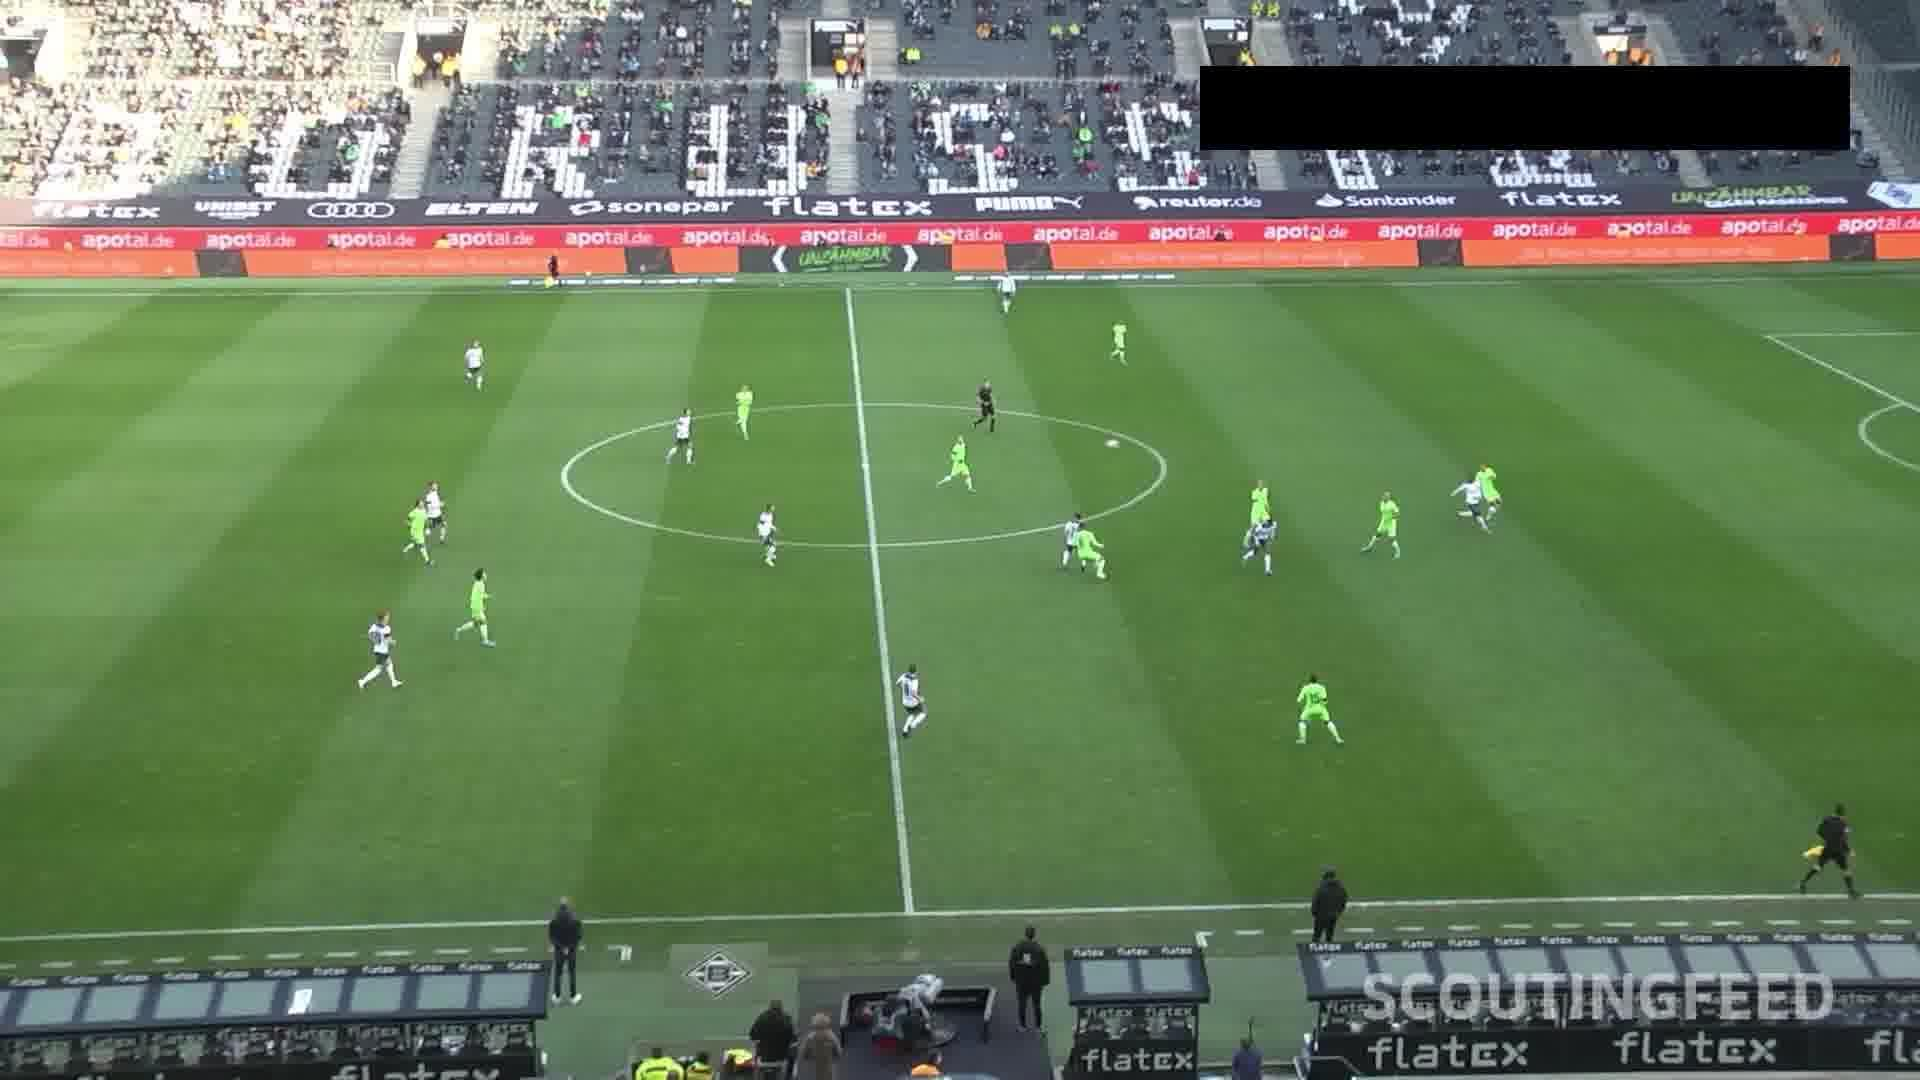football: (1104, 431, 1121, 455)
